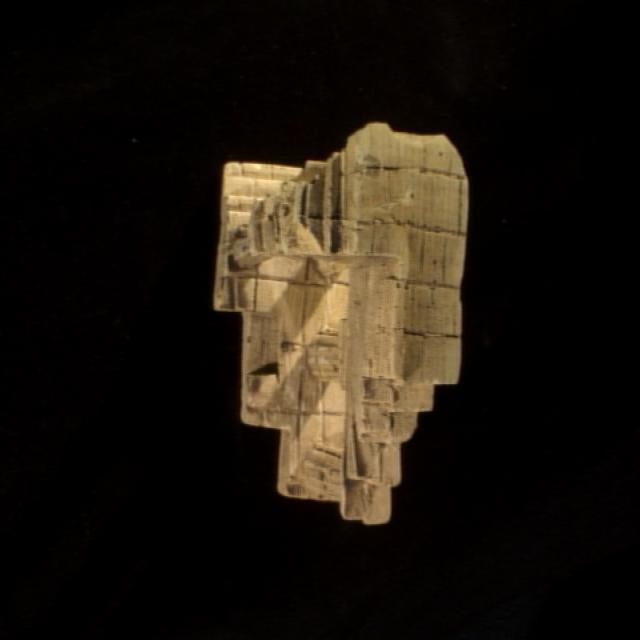Instance-Segmentation: (214, 123, 467, 523)
